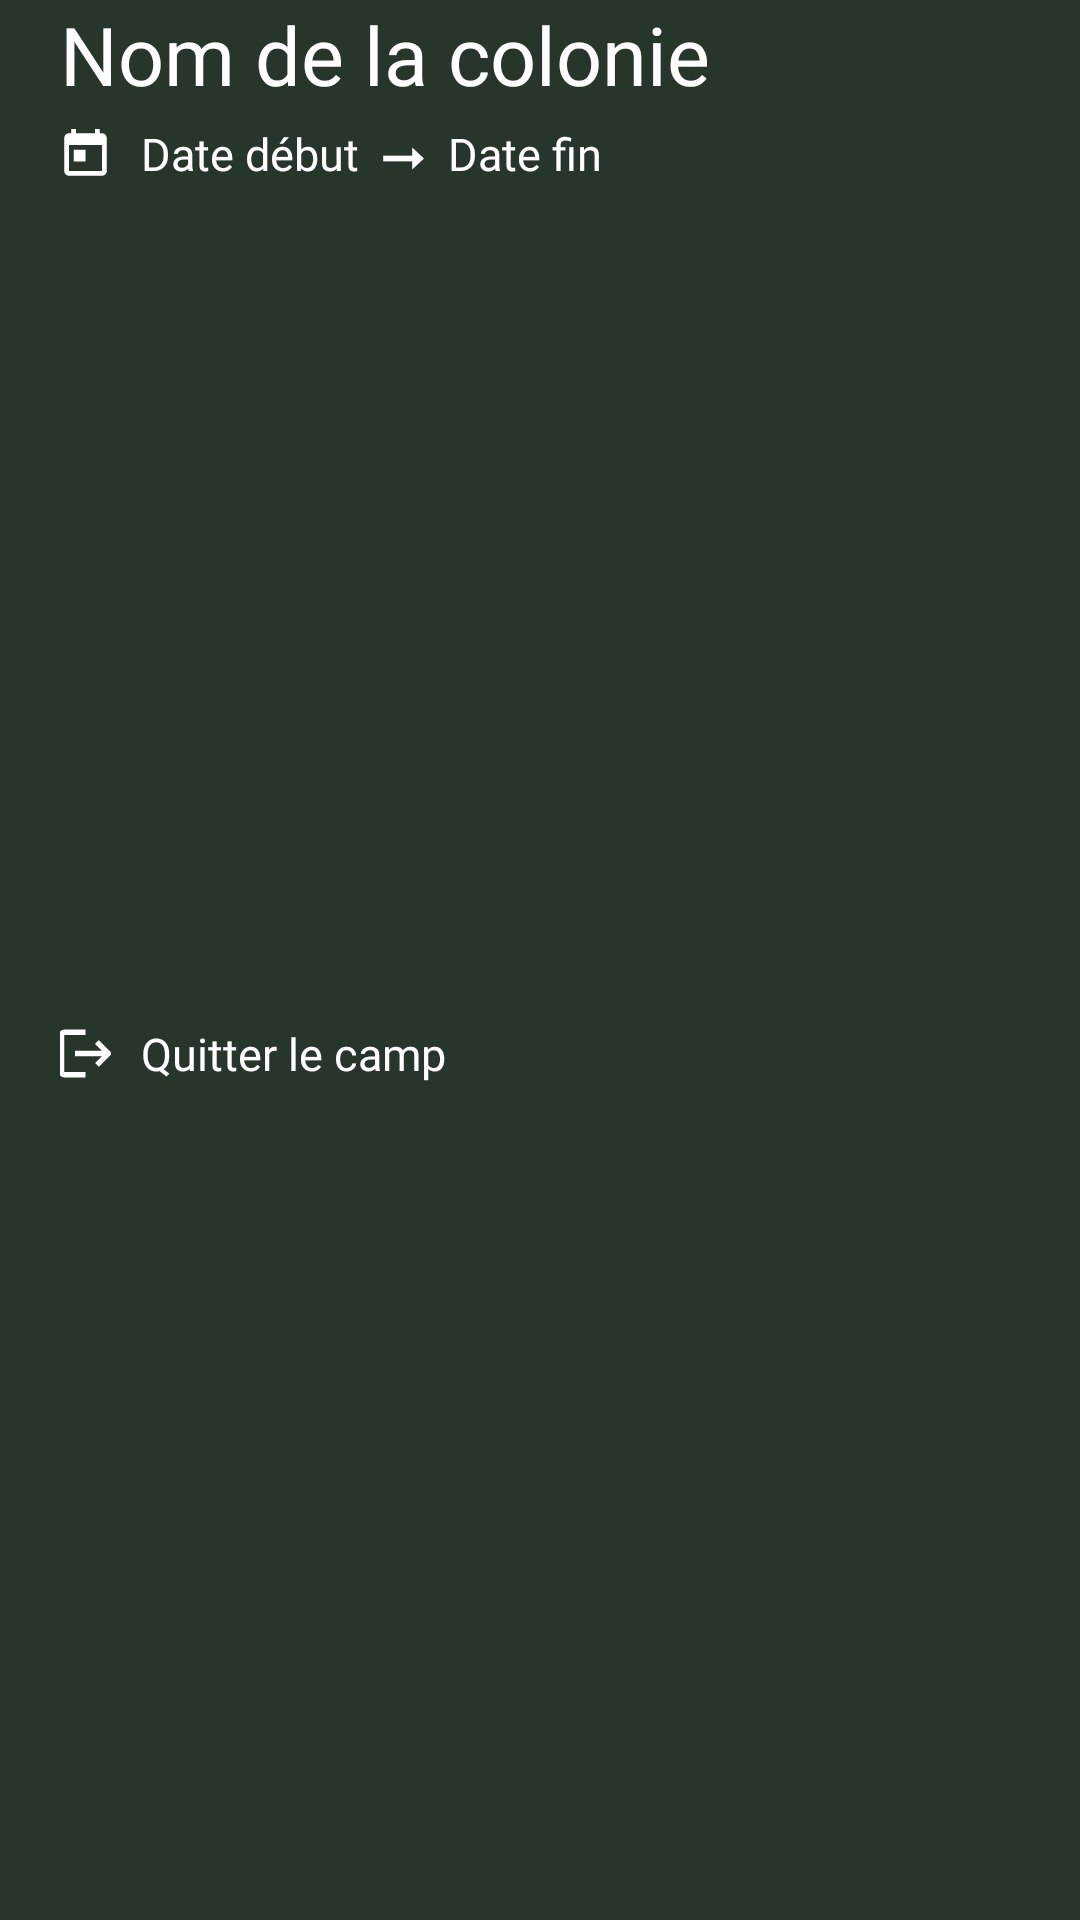

Point at icon controls on the screen. Image size 1080×1920, points as point (x, y).
calendar: point (85, 152)
